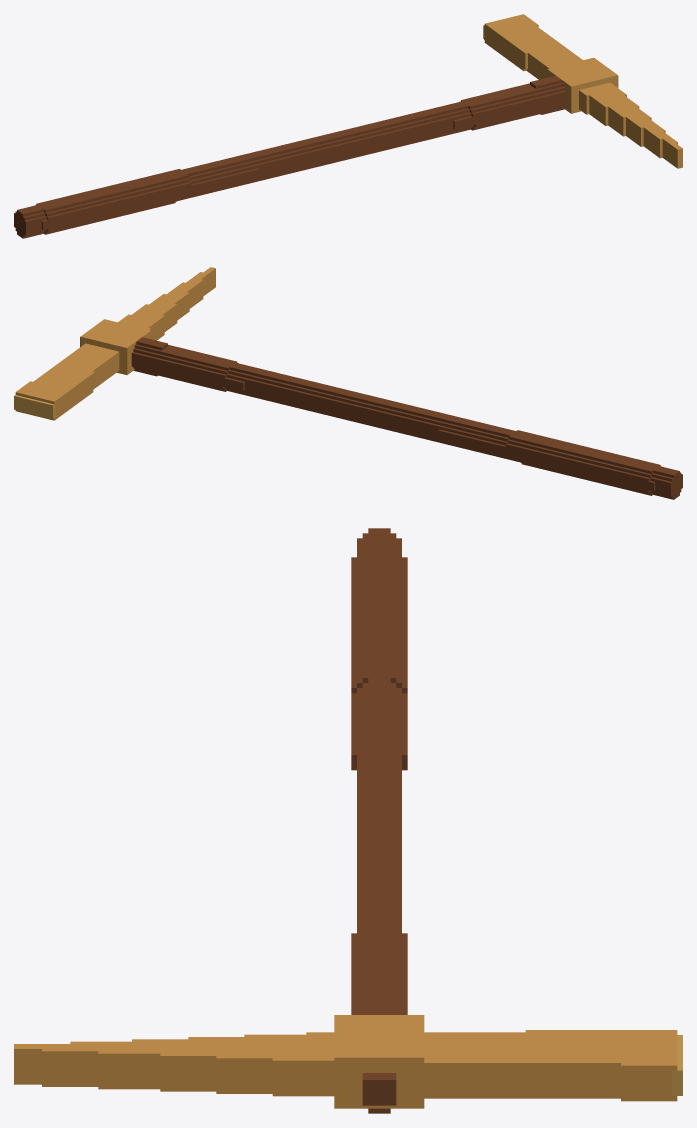
Rendered from bronze_pickaxe.glb.
The picture shows the model from 3 angles, top to bottom: view 1: azimuth 30°, elevation 25°; view 2: azimuth 150°, elevation 25°; view 3: azimuth 270°, elevation 25°; orthographic projection. The views are drawn at different scales.
Visible parts, largest first — view 1: bronze_pickaxe:compound; view 2: bronze_pickaxe:compound; view 3: bronze_pickaxe:compound.
Boxes of the visible parts, x1=… form: bronze_pickaxe:compound: x1=14, y1=14, x2=682, y2=238; bronze_pickaxe:compound: x1=14, y1=267, x2=682, y2=499; bronze_pickaxe:compound: x1=14, y1=528, x2=682, y2=1113.
Size of the model in its own units: 0.912 by 0.044 by 0.476.
